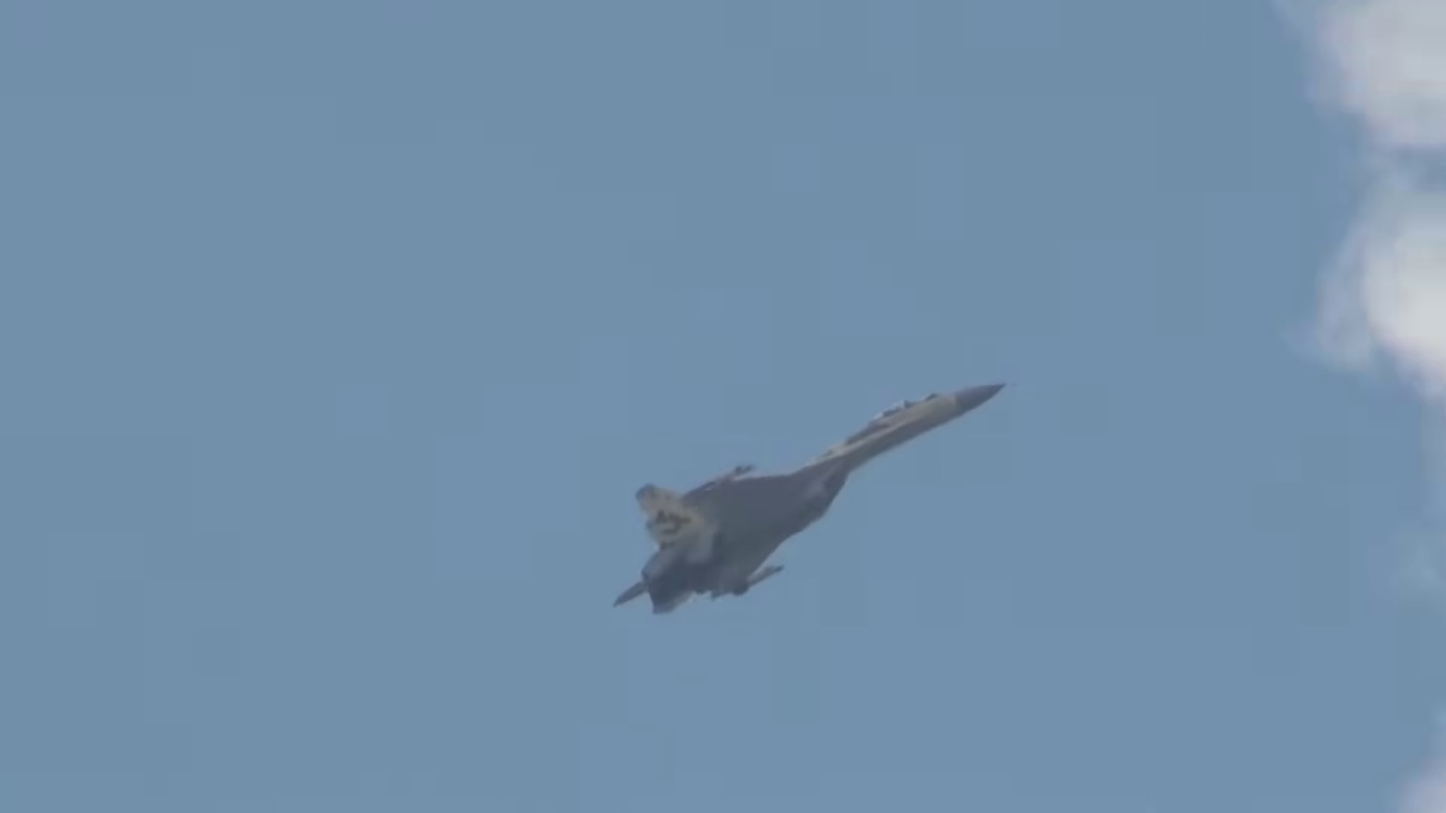Su35: (606, 378, 1018, 620)
